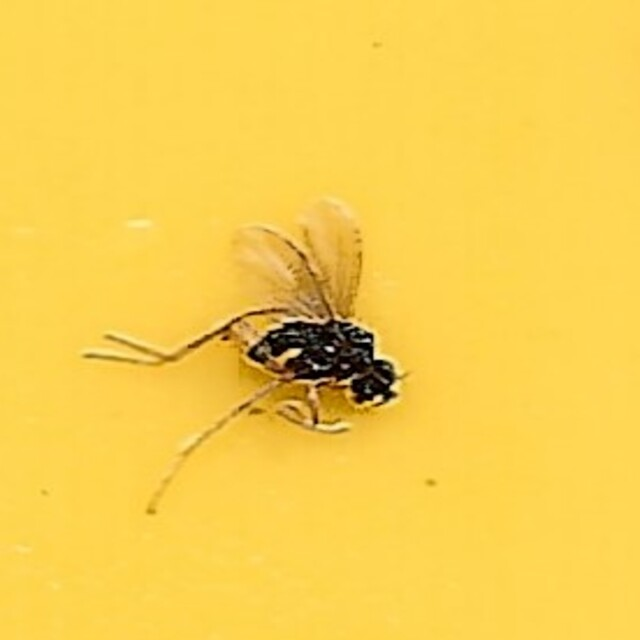Brachycera: (232, 195, 408, 445)
